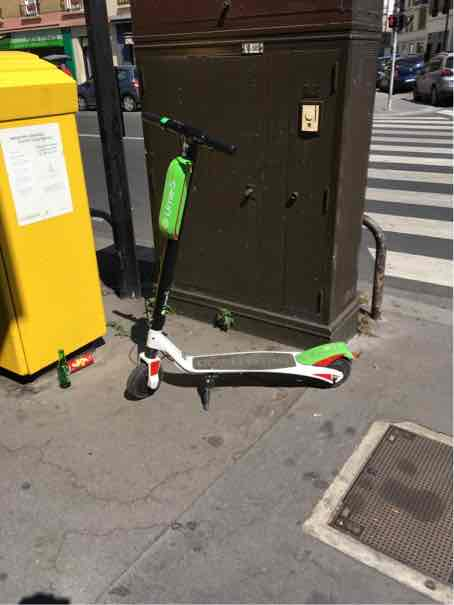scooter: (123, 114, 362, 407)
